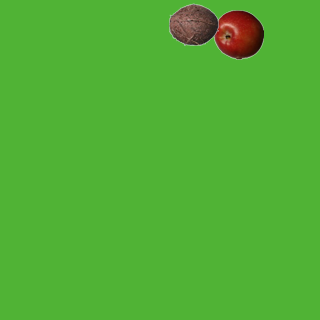Apple Braeburn: (213, 9, 263, 59)
Cocos: (168, 0, 218, 49)
